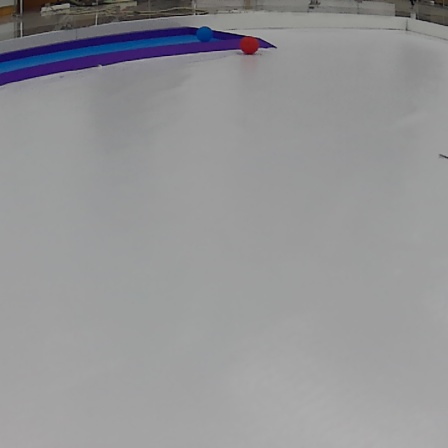blue: (195, 26, 216, 43)
blue_aim: (0, 27, 287, 89)
red: (241, 36, 262, 55)
